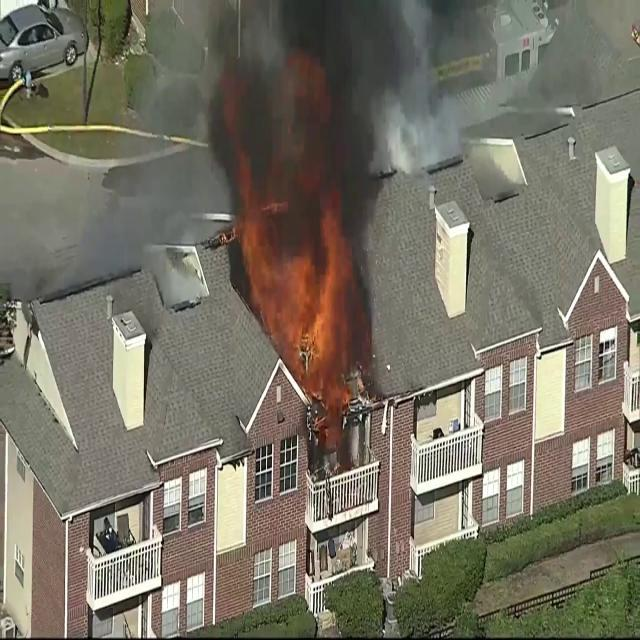Fire: (235, 191, 358, 405)
Smoke: (181, 0, 435, 244)
